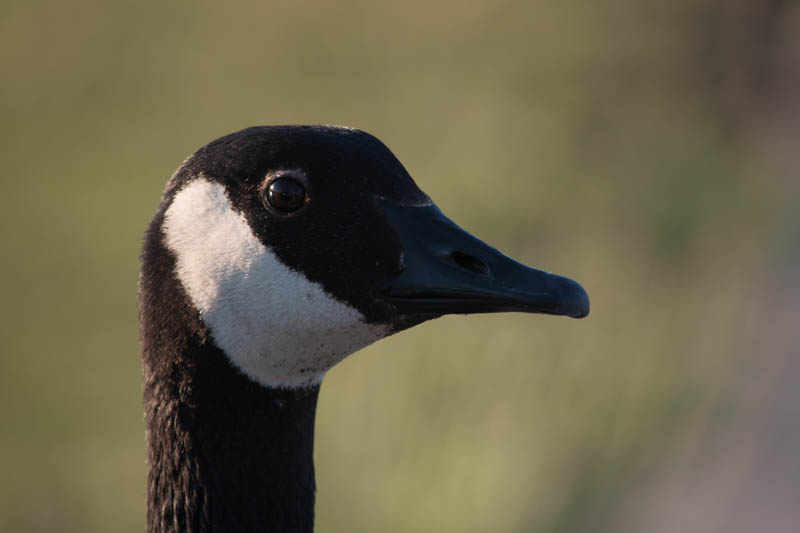goose-head: (139, 125, 589, 386)
